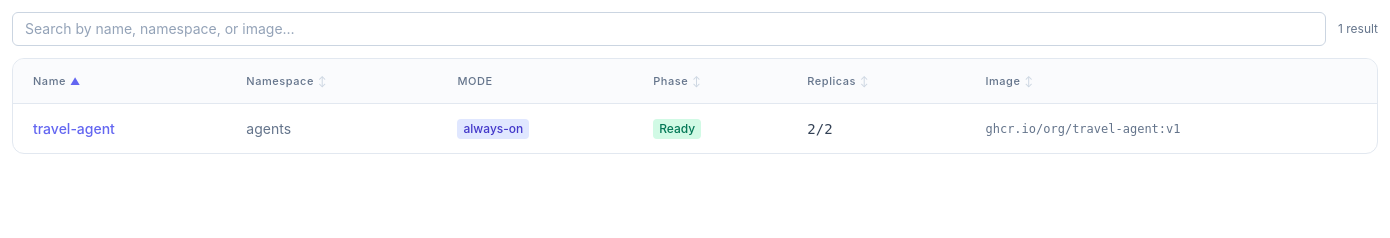
Test: AgentsTable › shows a no-matches message naming the search term
Expected: the link "travel-agent" is shown, [33, 120, 115, 136]
Type "zzzz" into the search field at (669, 29), box [12, 12, 1326, 46]
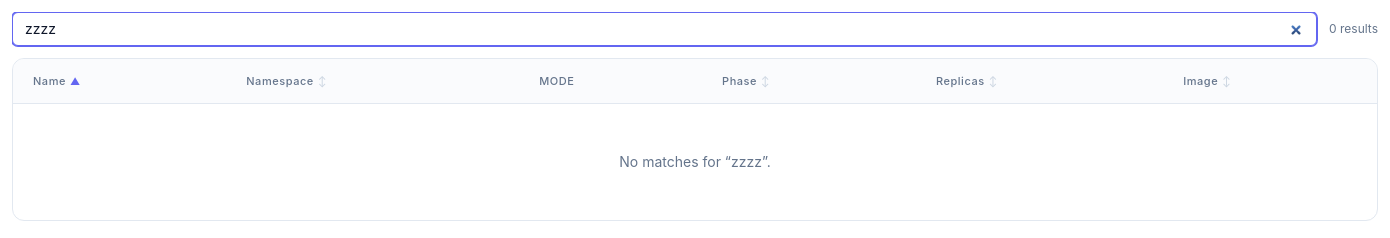
Now the text "No matches for “zzzz”." is shown, box [13, 104, 1377, 220]
